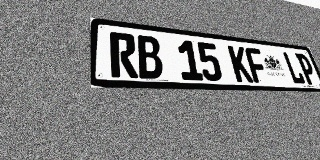1: (176, 39, 204, 81)
5: (196, 42, 224, 81)
B: (136, 35, 164, 79)
F: (244, 47, 270, 83)
K: (227, 45, 254, 83)
L: (282, 52, 306, 84)
P: (295, 53, 319, 85)
R: (109, 32, 138, 78)
